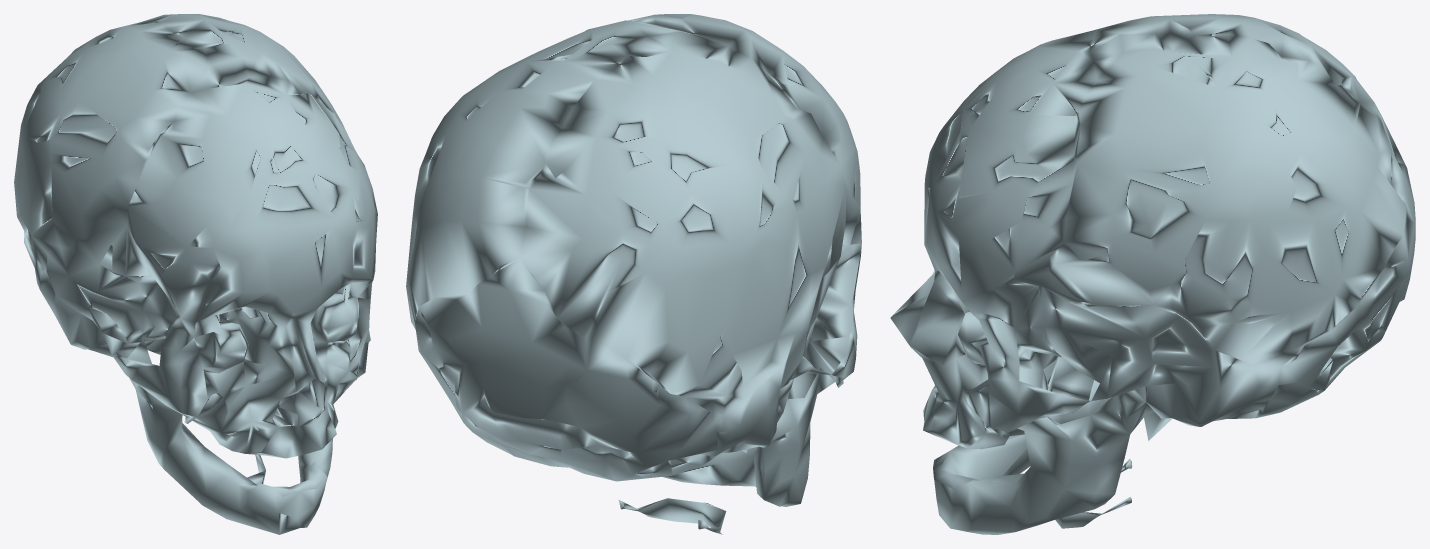
The model's file is skull.glb.
3 views of the same model, side by side, from view 1: azimuth 30°, elevation 25°; view 2: azimuth 150°, elevation 25°; view 3: azimuth 270°, elevation 25° (orthographic). The views are drawn at different scales.
Visible parts, largest first — view 1: Skull; view 2: Skull; view 3: Skull.
Boxes of the visible parts, bbox=[...] form: Skull: bbox=[14, 14, 377, 534]; Skull: bbox=[406, 14, 861, 534]; Skull: bbox=[890, 14, 1415, 534].
Size of the model in its own units: 0.1502 by 0.2131 by 0.2084.
